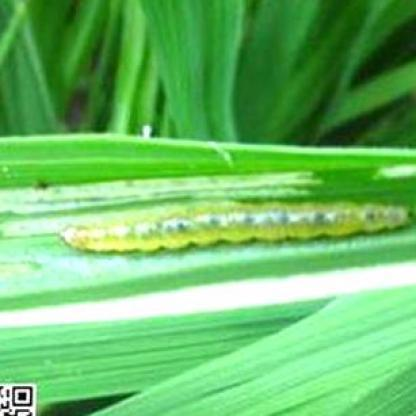leaf-folder: (59, 192, 408, 266)
